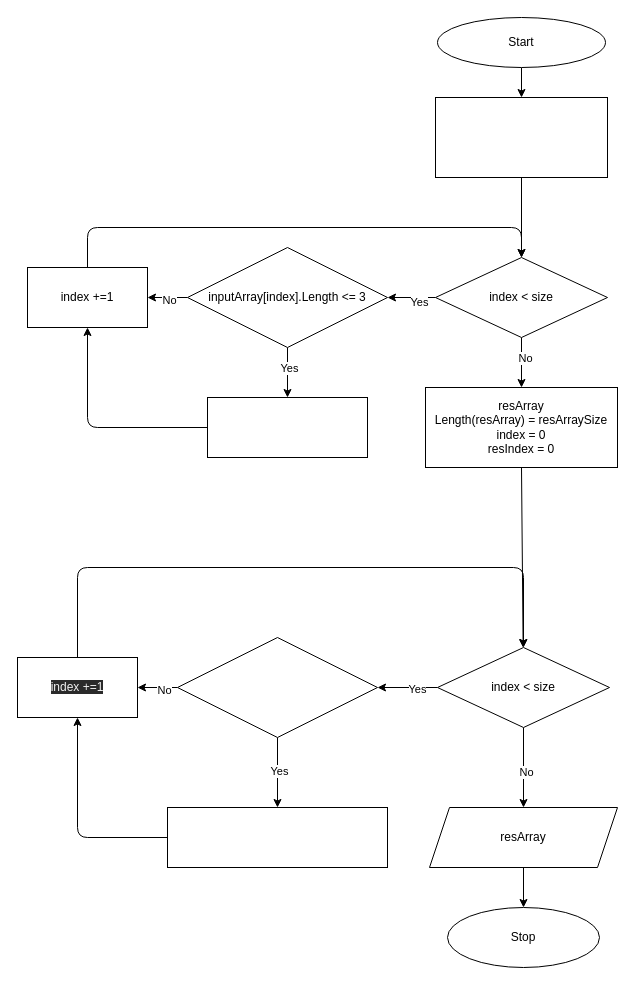
Some shapes in this 635 by 985 pixel diagram are drawn without their labels. The box of each missing label's shape, as (x1, y1, x2, y2) in pixels:
inputArray [index].Length <= 3: (176, 636, 378, 738)
inputArray, size =Length(inputArray), index = 0, resArraySize = 0: (434, 96, 608, 178)
resArray[resIndex] = inputArray[index] resIndex += 1: (166, 806, 388, 868)
resArraySize +=1: (206, 396, 368, 458)
